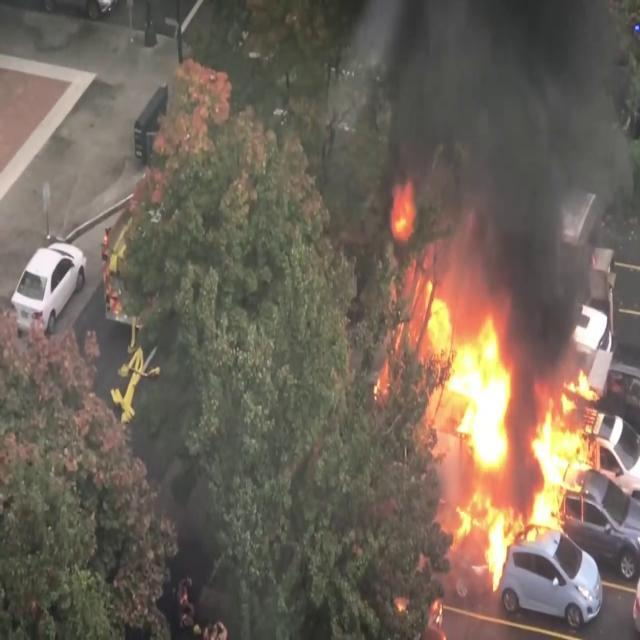Fire: (421, 276, 605, 560)
Smoke: (330, 0, 640, 289)
